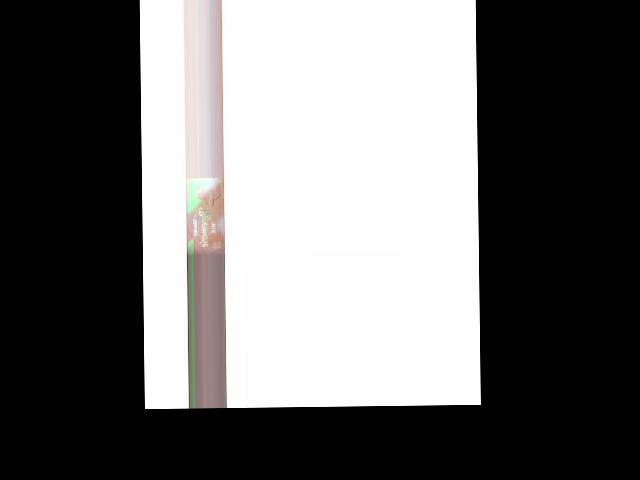chocolate: (187, 178, 224, 256)
